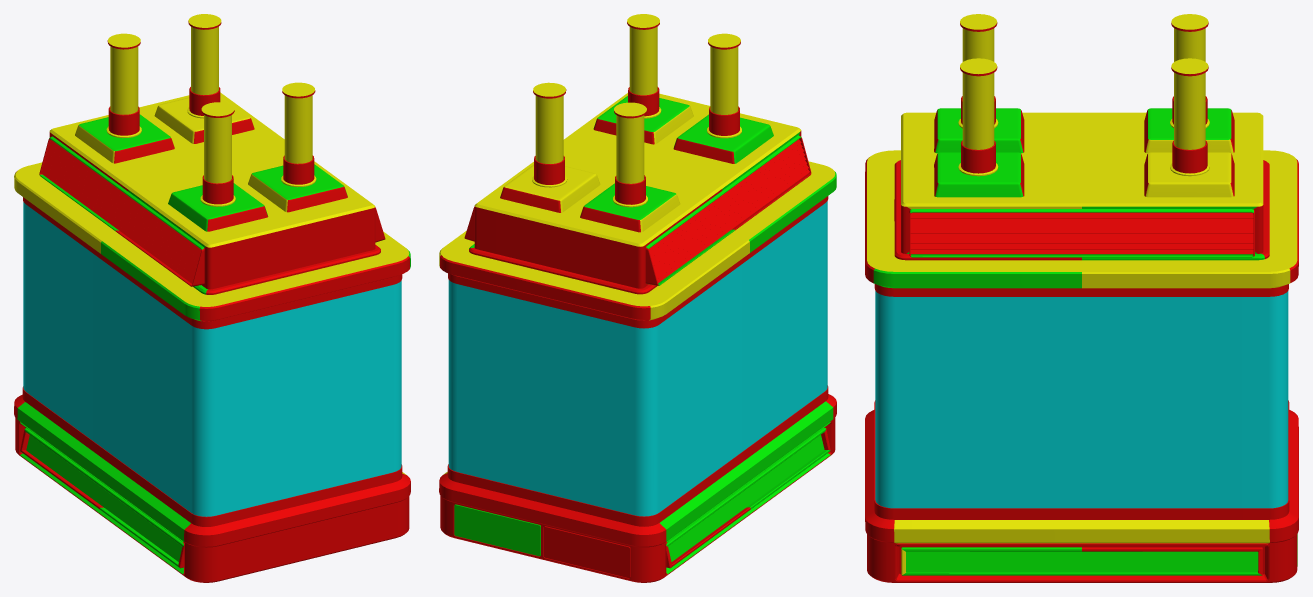
The model's file is Chamber_2.fbx.
The picture shows the model from 3 angles, left to right: view 1: azimuth 30°, elevation 25°; view 2: azimuth 150°, elevation 25°; view 3: azimuth 270°, elevation 25°; orthographic projection. The views are drawn at different scales.
Visible parts, largest first — view 1: L3:polySurface2300; view 2: L3:polySurface2300; view 3: L3:polySurface2300.
Part boxes in pixels (x1,y1,x2,y2): L3:polySurface2300: [14, 14, 410, 582]; L3:polySurface2300: [439, 14, 836, 582]; L3:polySurface2300: [865, 14, 1298, 582].
Bounding box in the file's own units: 415 × 748 × 614.
